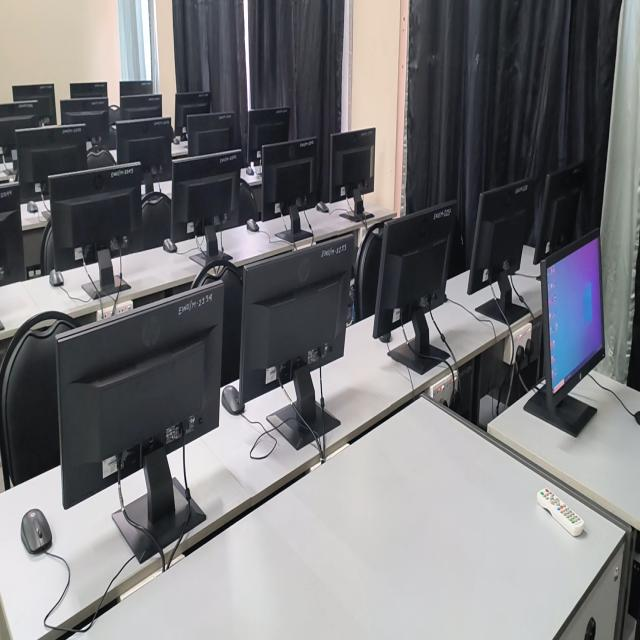Chair: (0, 311, 77, 489), (191, 255, 242, 386), (352, 223, 383, 322), (142, 191, 171, 249), (87, 136, 115, 169), (238, 179, 258, 224), (40, 217, 54, 274)
Monitor: (56, 283, 224, 509), (239, 237, 354, 404), (373, 202, 456, 373), (541, 231, 604, 395), (50, 163, 141, 270), (467, 181, 534, 311), (171, 151, 240, 241), (16, 126, 87, 202), (262, 138, 317, 220), (116, 119, 172, 191), (328, 128, 375, 202), (0, 183, 26, 286), (248, 107, 290, 164), (188, 113, 234, 156), (13, 84, 56, 123), (175, 91, 211, 135), (0, 114, 37, 153), (70, 82, 107, 98), (120, 80, 153, 97)
Mouse: (21, 508, 52, 554), (222, 385, 244, 415), (49, 269, 64, 286), (163, 238, 177, 252), (246, 219, 259, 232), (316, 201, 329, 213)
